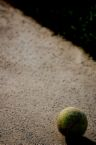tennis ball: (55, 106, 89, 138)
